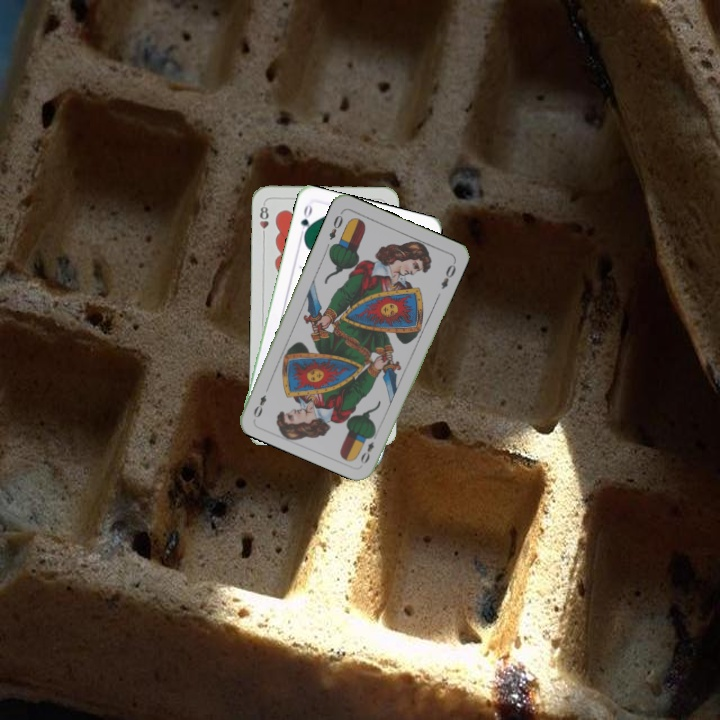EO: (356, 428, 380, 466), (325, 208, 346, 243)
GO: (296, 201, 315, 241)
H8: (255, 200, 271, 240)
